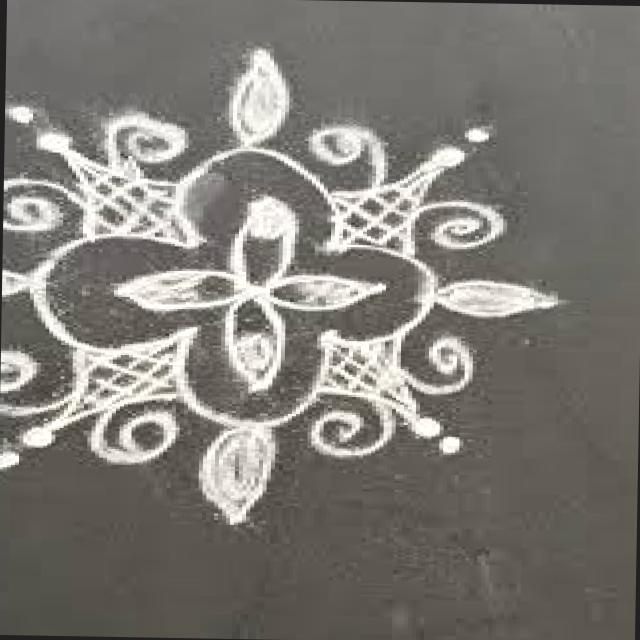rangoli: (1, 36, 586, 542)
